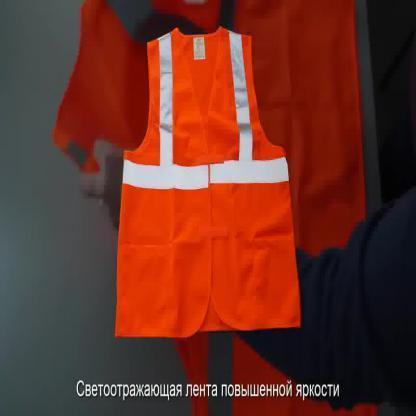vest: (112, 27, 302, 346)
